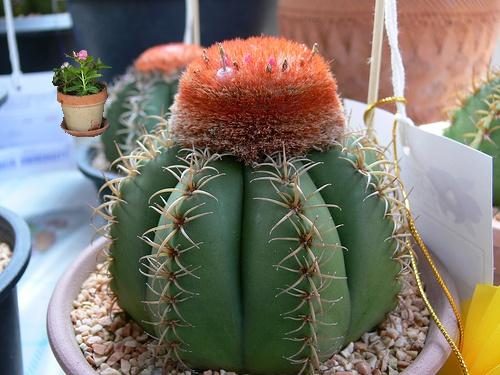tampered: (53, 50, 112, 137)
